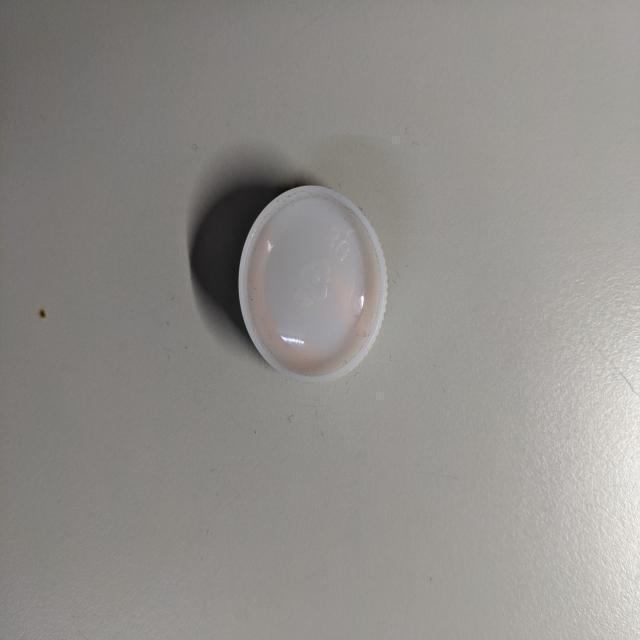Plastic: (239, 183, 392, 386)
